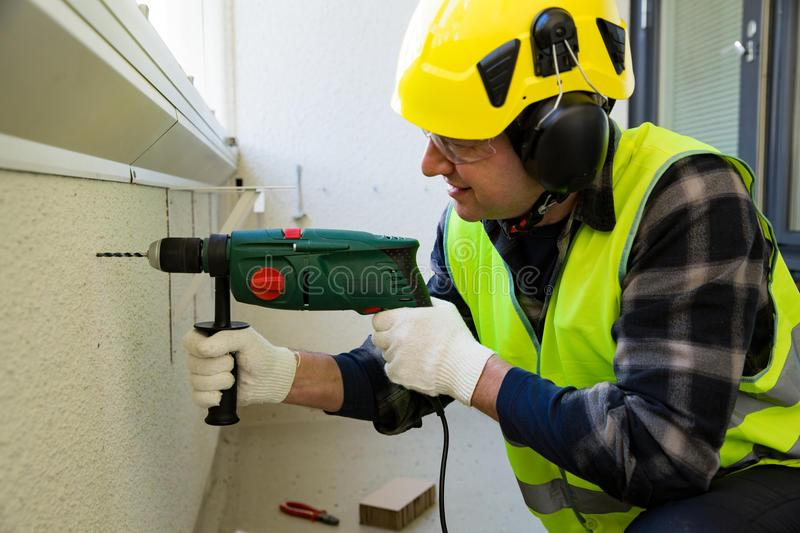helmet: (390, 1, 639, 143)
